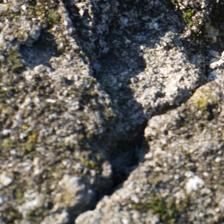Crack: (64, 115, 164, 222)
